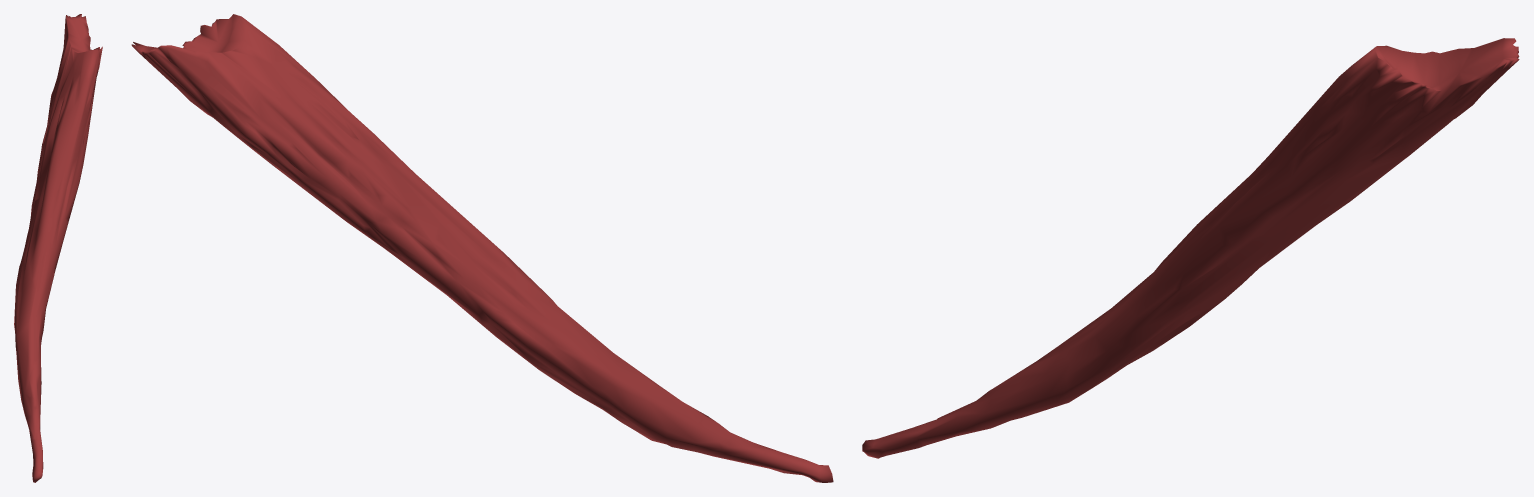
Rendered from posterior-belly-of-digastric-muscle-l.glb.
3 renders of one model, left to right at view 1: azimuth 30°, elevation 25°; view 2: azimuth 150°, elevation 25°; view 3: azimuth 270°, elevation 25°, orthographic. The views are drawn at different scales.
Visible parts, largest first — view 1: Posterior belly of digastric muscle.l; view 2: Posterior belly of digastric muscle.l; view 3: Posterior belly of digastric muscle.l.
Part boxes in pixels (x1,y1,x2,y2): Posterior belly of digastric muscle.l: (14,14,102,482); Posterior belly of digastric muscle.l: (131,14,833,482); Posterior belly of digastric muscle.l: (862,38,1519,458).
Size of the model in its own units: 0.0469 by 0.0641 by 0.0631.
